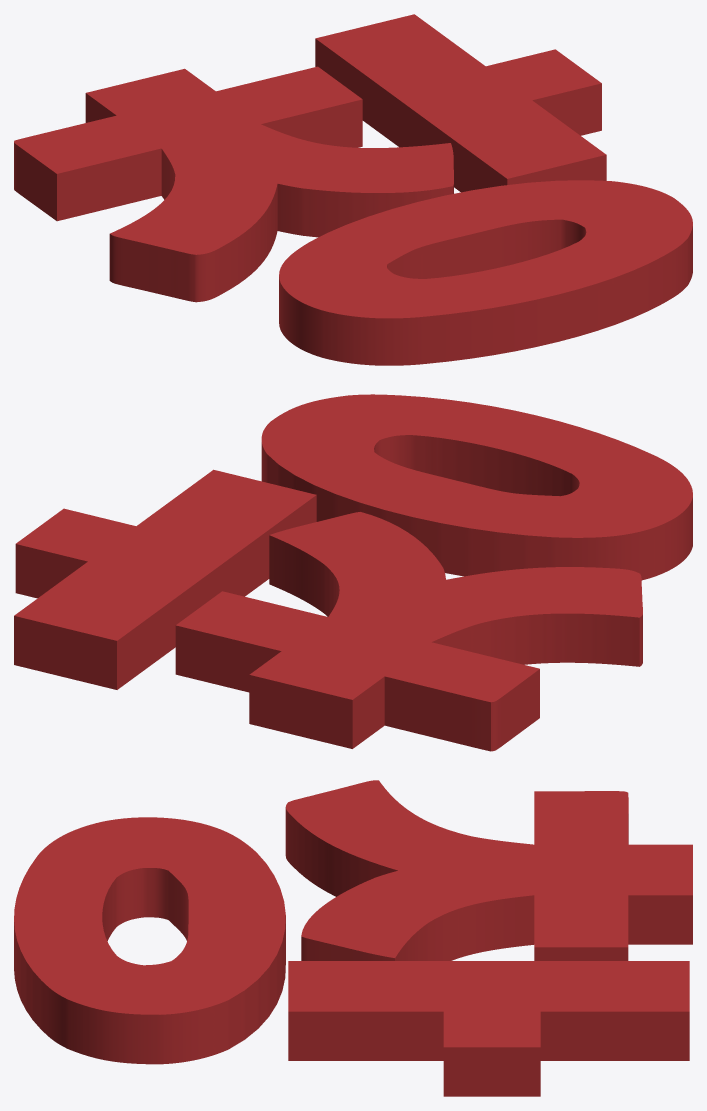
The model's file is chang.fbx.
3 views of the same model, one above another, from view 1: azimuth 30°, elevation 25°; view 2: azimuth 150°, elevation 25°; view 3: azimuth 270°, elevation 25° (orthographic). The views are drawn at different scales.
Parts seen in each view (by area): view 1: Curve, Curve.001, Curve.002; view 2: Curve, Curve.001, Curve.002; view 3: Curve, Curve.001, Curve.002.
Part boxes in pixels (x1,y1,x2,y2): Curve: (14, 66, 453, 302); Curve.001: (279, 180, 692, 365); Curve.002: (315, 14, 606, 192); Curve: (175, 512, 642, 751); Curve.001: (261, 394, 692, 580); Curve.002: (14, 469, 316, 689); Curve: (285, 780, 692, 960); Curve.001: (14, 817, 285, 1064); Curve.002: (288, 961, 689, 1096).
Size of the model in its own units: 1966 by 170 by 2113.
